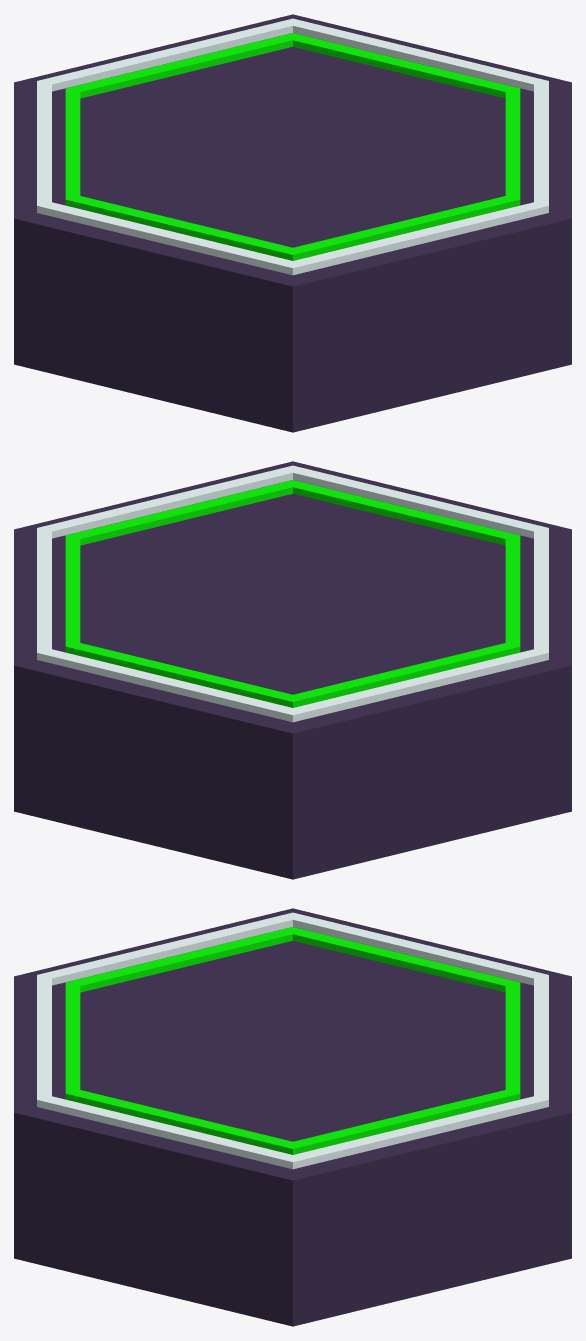
The model's file is hex_checkpoint.glb.
3 views of the same model, one above another, from view 1: azimuth 30°, elevation 25°; view 2: azimuth 150°, elevation 25°; view 3: azimuth 270°, elevation 25° (orthographic).
Visible parts, largest first — view 1: tile, whitering, greenring; view 2: tile, whitering, greenring; view 3: tile, whitering, greenring.
Part boxes in pixels (x1=…): tile: x1=14, y1=14, x2=571, y2=432; whitering: x1=37, y1=18, x2=548, y2=275; greenring: x1=65, y1=33, x2=520, y2=260; tile: x1=14, y1=461, x2=571, y2=879; whitering: x1=37, y1=465, x2=548, y2=722; greenring: x1=65, y1=480, x2=520, y2=707; tile: x1=14, y1=908, x2=571, y2=1326; whitering: x1=37, y1=912, x2=548, y2=1169; greenring: x1=65, y1=927, x2=520, y2=1154.
Size of the model in its own units: 2 by 0.5244 by 1.73.
